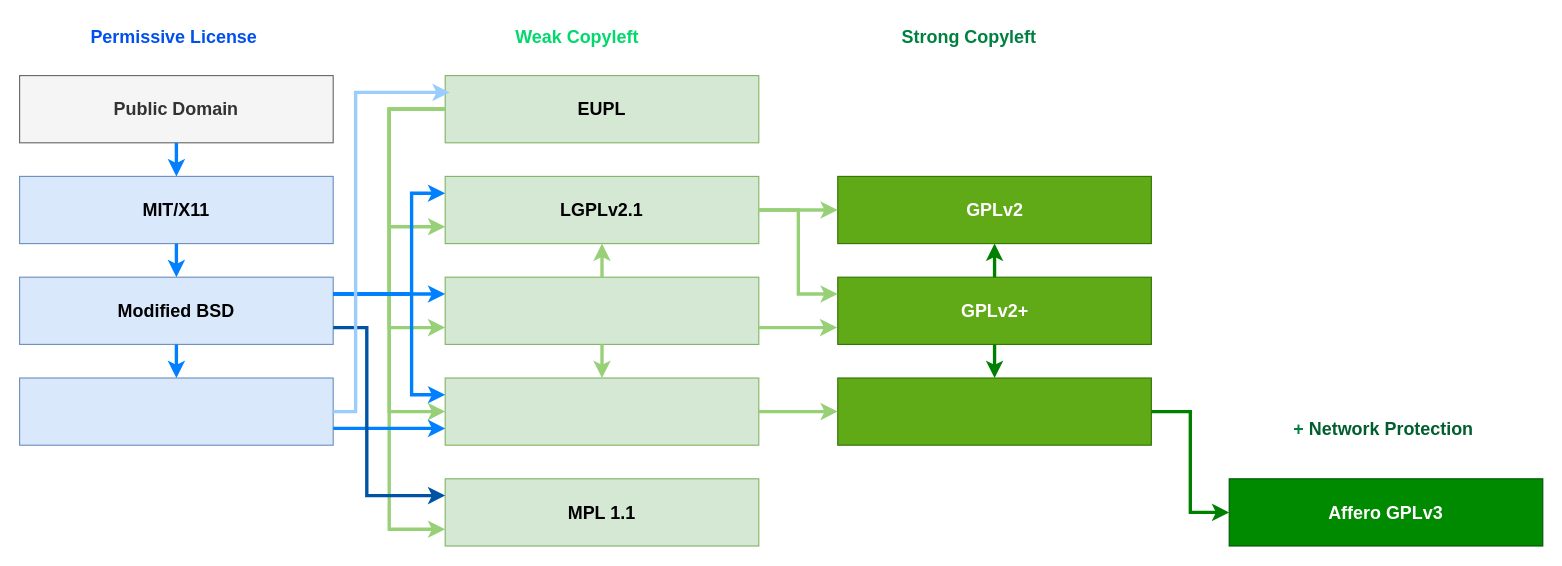
Some shapes in this 1562 by 566 pixel diagram are drawn without their labels. The centre of each missing label's shape, as x and y in pixels:
Apache 2.0: (175,411)
GPLv3 / GPLv3+: (994,411)
LGPLv2.1 +: (601,310)
LGPLv3 / LGPLv3.1: (601,411)
